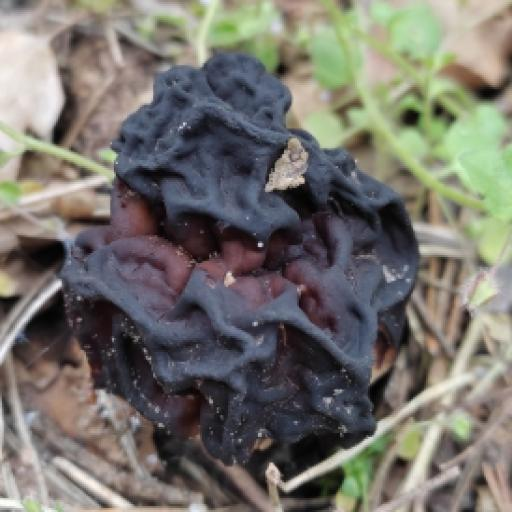mushroom: (19, 21, 482, 509)
